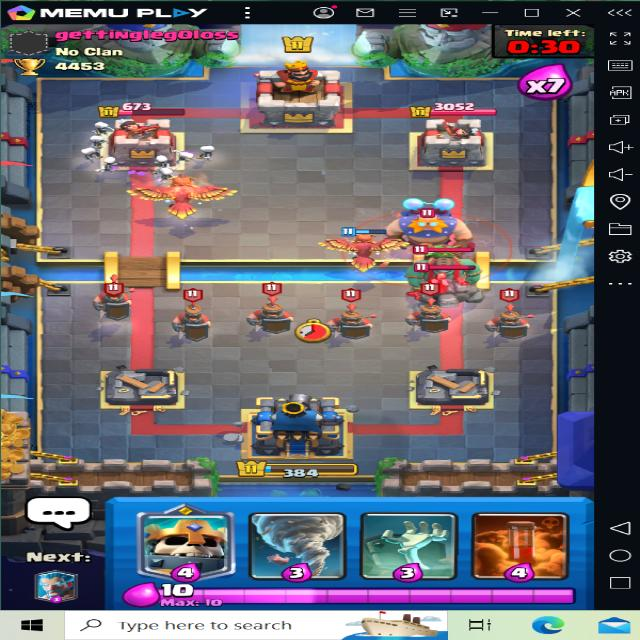electro-giant: (382, 196, 475, 252)
goblin-giant: (408, 240, 478, 290)
golem: (404, 253, 495, 313)
royal-recruits: (483, 286, 536, 340), (328, 286, 374, 340), (245, 280, 290, 334), (400, 293, 450, 332), (174, 287, 212, 337), (90, 278, 136, 318)
